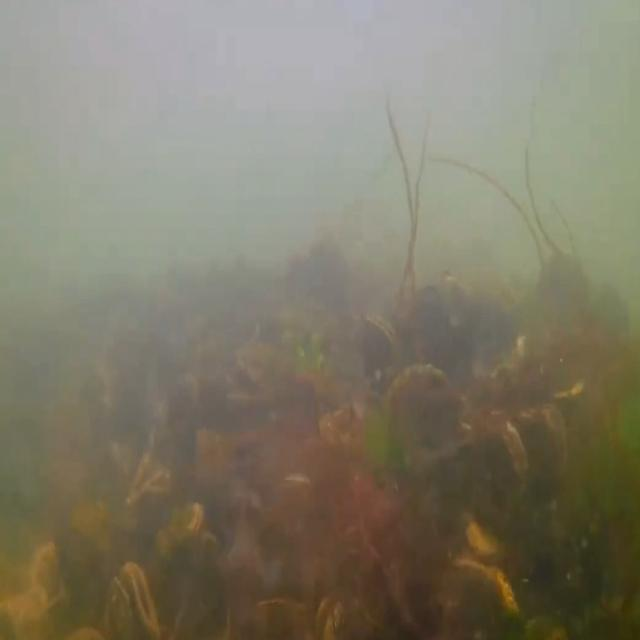Oyster-Closed: (363, 310, 399, 411), (147, 499, 206, 547)
Oyster-Indeterminate: (383, 364, 465, 451), (500, 406, 570, 490), (467, 414, 532, 498), (453, 556, 525, 613), (318, 402, 372, 452), (123, 462, 177, 510), (461, 510, 510, 559)
Oyster-Open: (101, 561, 160, 640), (315, 589, 348, 640)
